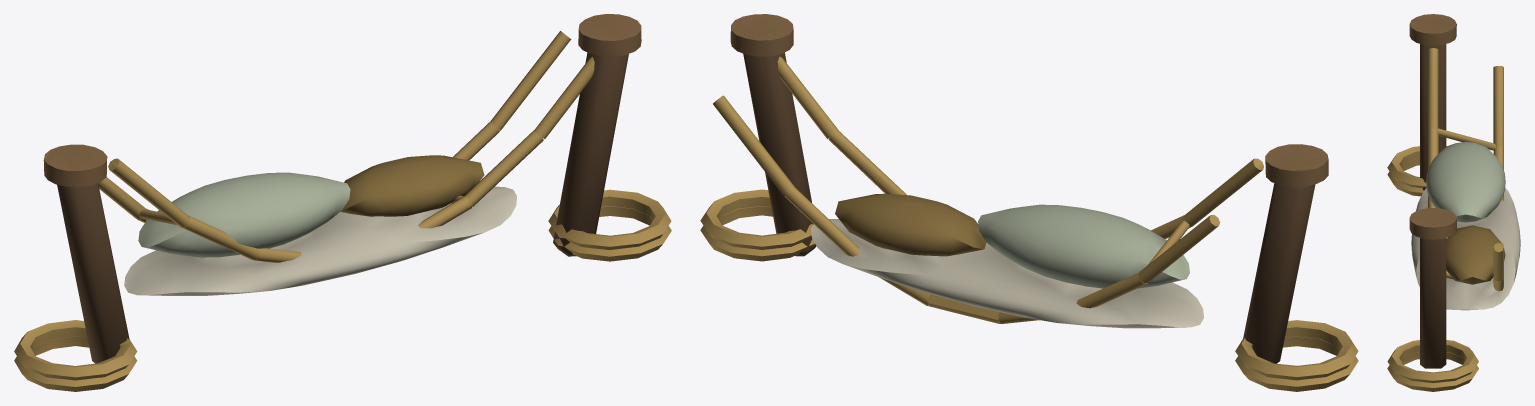
File: hammock_rig_b.glb
The picture shows the model from 3 angles, left to right: view 1: azimuth 30°, elevation 25°; view 2: azimuth 150°, elevation 25°; view 3: azimuth 270°, elevation 25°; orthographic projection. The views are drawn at different scales.
Parts seen in each view (by area): view 1: Surface; view 2: Surface; view 3: Surface.
Part boxes in pixels (bbox=[...]): Surface: bbox=[14, 14, 671, 391]; Surface: bbox=[700, 14, 1358, 391]; Surface: bbox=[1387, 14, 1520, 391].
Size of the model in its own units: 4.2 by 1.36 by 1.02.
